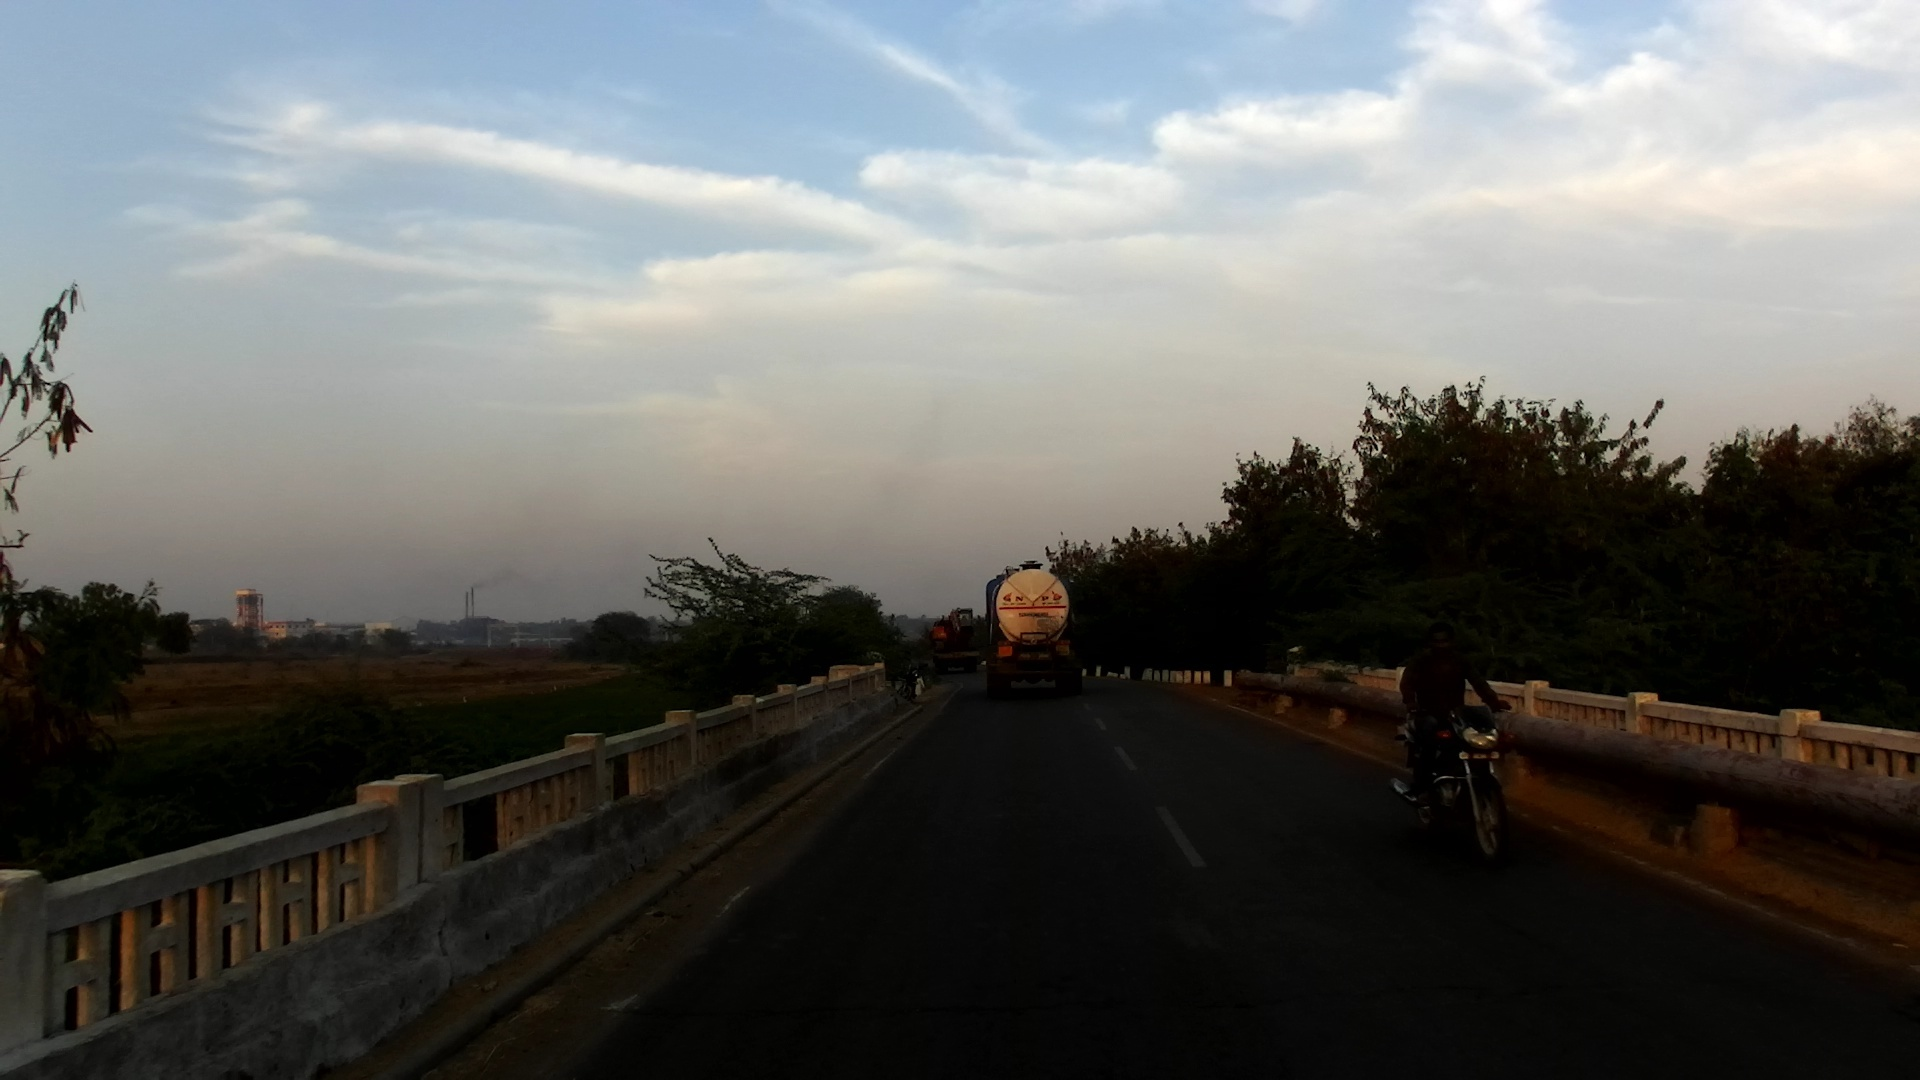motorcycle: (1391, 694, 1522, 862)
rider: (1397, 623, 1509, 822)
truck: (981, 563, 1086, 706), (930, 603, 989, 677)
